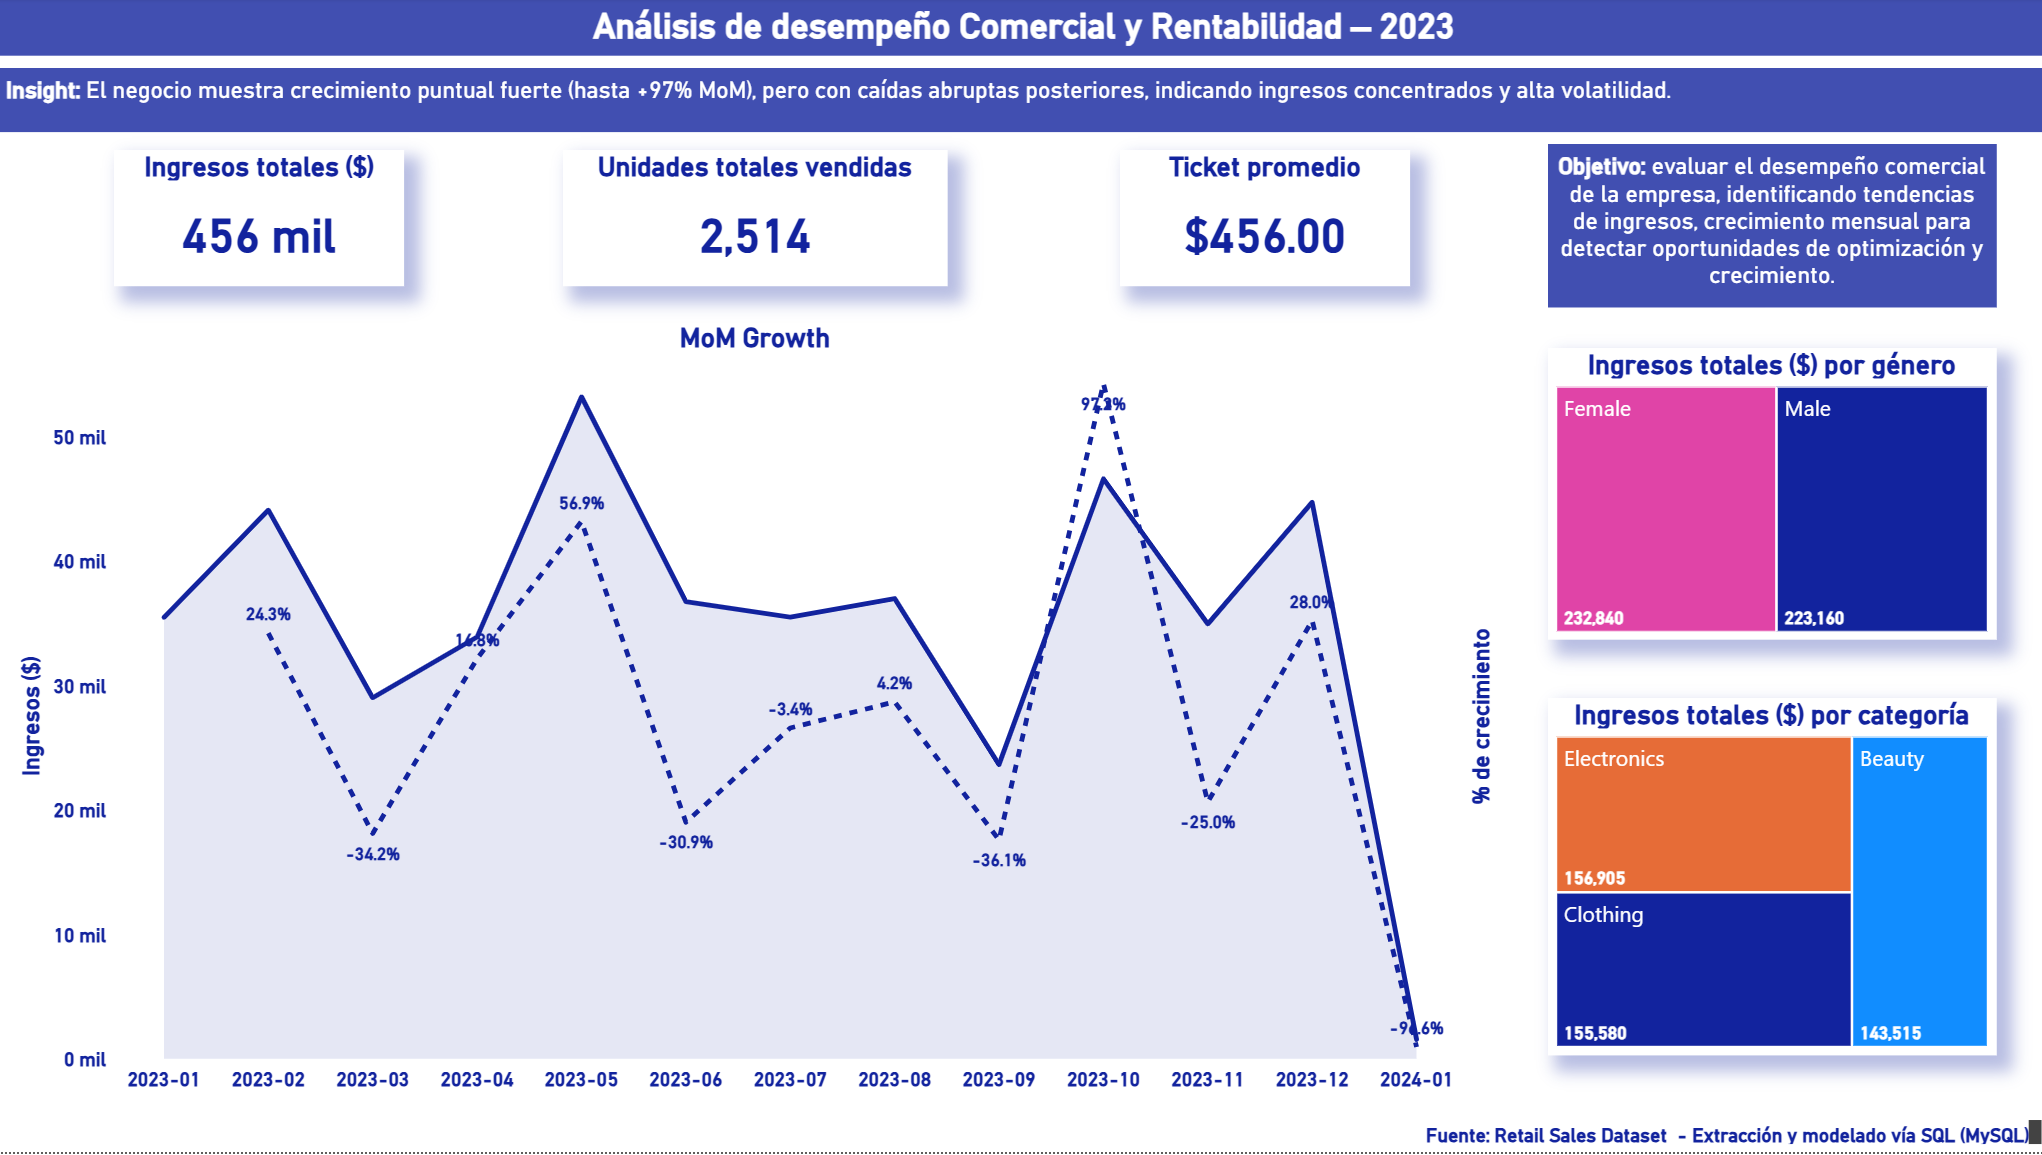

The dashboard page shown, as its layout file describes it:
{"tool":"powerbi","page":{"name":"Desempeño comercial y rentabilidad","canvas":[1280,720],"ordinal":0},"visuals":[{"type":"lineChart","title":"MoM Growth","fields":{"Category":["retail_sales mom_growth.month"],"Y":["Sum(retail_sales mom_growth.revenue)"],"Y2":["Sum(retail_sales mom_growth.growth%)"]},"box":[7.5,201.5,929.6,487.3],"z":0},{"type":"card","title":"Ingresos totales ($)","fields":{"Values":["Sum(retail_sales ingresos_totales.revenue)"]},"box":[72.4,94.8,180.9,84.9],"z":1000},{"type":"card","title":"Unidades totales vendidas","fields":{"Values":["Sum(retail_sales unidades_vendidas.units_sold)"]},"box":[352.5,94.8,239.6,84.9],"z":2000},{"type":"treemap","title":"Ingresos totales ($) por género","fields":{"Values":["Sum(retail_sales ingresos_genero.revenue)"],"Group":["retail_sales ingresos_genero.gender"]},"box":[967.1,218.4,279.5,182.2],"z":3000},{"type":"treemap","title":"Ingresos totales ($) por categoría","fields":{"Group":["retail_sales ingresos_categoria.product_category"],"Values":["Sum(retail_sales ingresos_categoria.revenue)"]},"box":[967.1,436.7,279.5,222.7],"z":4000},{"type":"textbox","box":[0,0,1280.3,35.6],"z":5000},{"type":"textbox","box":[0,43.7,1280.3,39.9],"z":6000},{"type":"textbox","box":[0,695,1280.3,25],"z":7000},{"type":"card","title":"Ticket promedio","fields":{"Values":["Sum(retail_sales ticket_promedio.avg_ticket)"]},"box":[700,94.8,180.9,84.9],"z":8000},{"type":"textbox","box":[967.1,91.1,279.5,101.7],"z":9000}]}

Visuals, with their boxes in screenshot pixels (x1, y1, x2, y2), scaled from the page's 1280x720 canvas onto the 2042x1155 screenshot:
"MoM Growth" lineChart: 12, 323, 1495, 1105
"Ingresos totales ($)" card: 116, 152, 404, 288
"Unidades totales vendidas" card: 562, 152, 945, 288
"Ingresos totales ($) por género" treemap: 1543, 350, 1989, 643
"Ingresos totales ($) por categoría" treemap: 1543, 701, 1989, 1058
textbox: 0, 0, 2041, 57
textbox: 0, 70, 2041, 134
textbox: 0, 1115, 2041, 1154
"Ticket promedio" card: 1117, 152, 1405, 288
textbox: 1543, 146, 1989, 309
